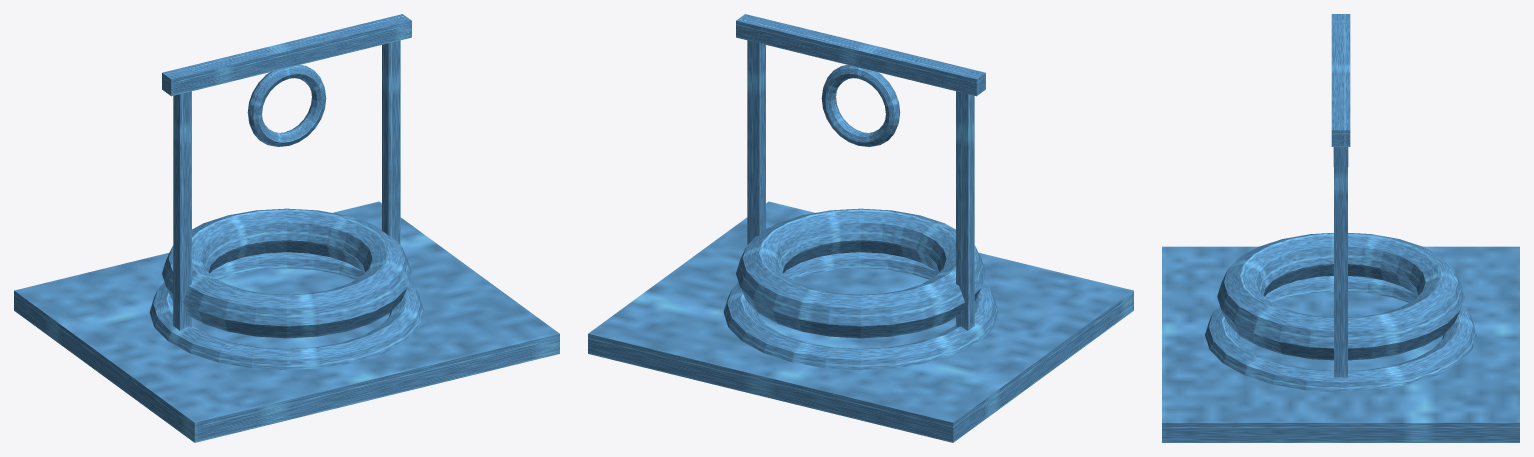
The model's file is moonwell_02.glb.
The picture shows the model from 3 angles, left to right: view 1: azimuth 30°, elevation 25°; view 2: azimuth 150°, elevation 25°; view 3: azimuth 270°, elevation 25°; orthographic projection.
Visible parts, largest first — view 1: Foundation, Well, WellBase, MoonBeam, MoonPost, MoonPost.001, Moon; view 2: Foundation, Well, WellBase, MoonBeam, MoonPost, MoonPost.001, Moon; view 3: Foundation, Well, WellBase, MoonPost.001, MoonBeam.
Boxes of the visible parts, <box> form: Foundation: <box>14,201,559,442</box>; Well: <box>162,208,411,338</box>; WellBase: <box>149,252,424,370</box>; MoonBeam: <box>162,14,411,96</box>; MoonPost: <box>173,69,191,330</box>; MoonPost.001: <box>382,17,400,244</box>; Moon: <box>247,65,326,146</box>; Foundation: <box>588,201,1133,442</box>; Well: <box>736,208,985,338</box>; WellBase: <box>723,252,998,370</box>; MoonBeam: <box>736,14,985,96</box>; MoonPost: <box>956,68,974,330</box>; MoonPost.001: <box>747,17,765,244</box>; Moon: <box>821,65,900,146</box>; Foundation: <box>1162,246,1519,442</box>; Well: <box>1217,233,1464,360</box>; WellBase: <box>1205,276,1476,392</box>; MoonPost.001: <box>1334,119,1347,377</box>; MoonBeam: <box>1331,14,1350,146</box>.
Size of the model in its own units: 4.55 by 3.4 by 3.9.
1 material, 1 textured.
